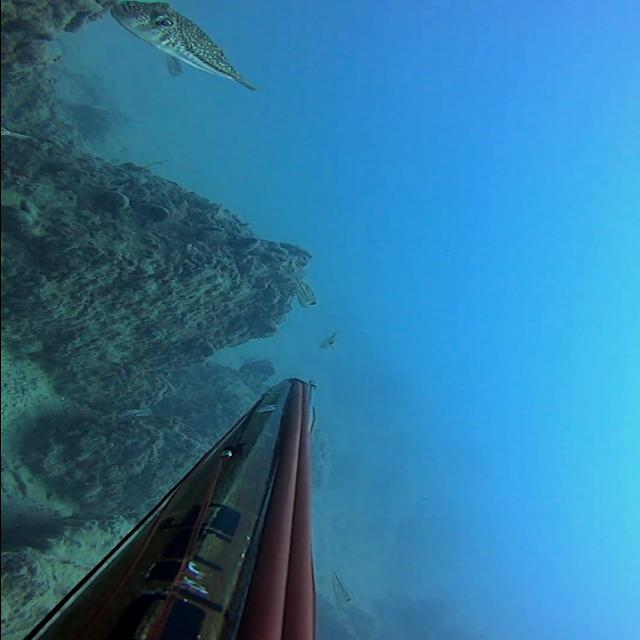Balon Baligi: (109, 0, 262, 91), (282, 271, 316, 307), (328, 563, 352, 607), (318, 330, 338, 350), (167, 54, 182, 77)
